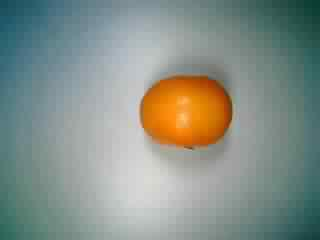orange: (135, 70, 233, 155)
